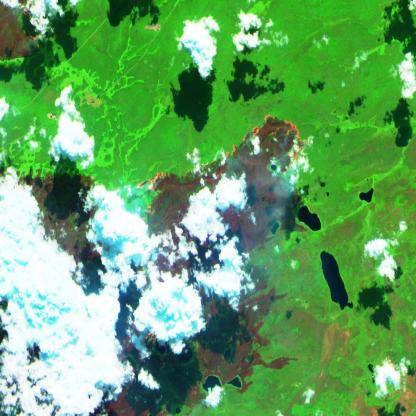fire: (133, 110, 315, 272)
